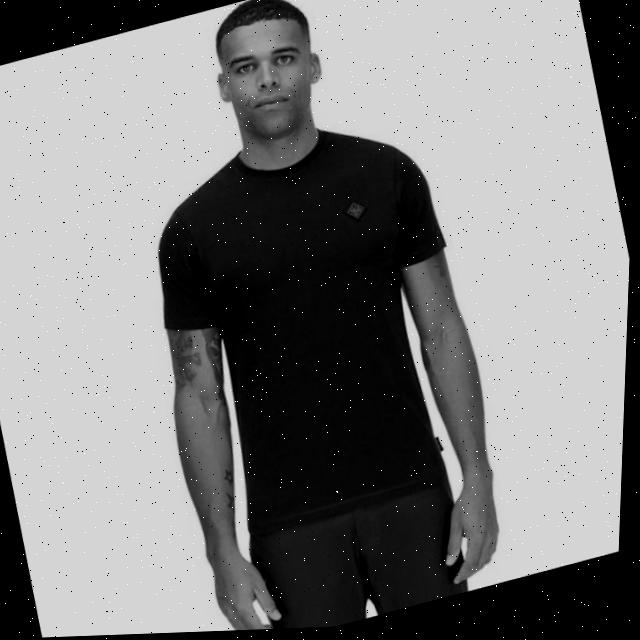Upper-Body: (162, 133, 451, 535)
